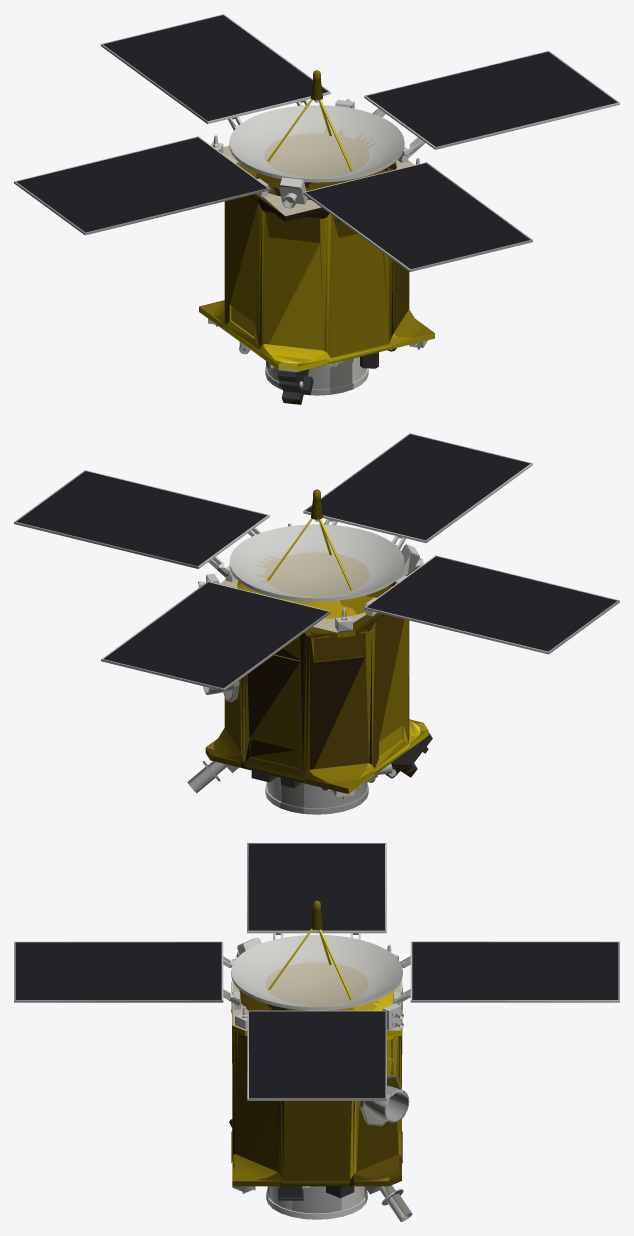
Rendered from near.glb.
3 views of the same model, one above another, from view 1: azimuth 30°, elevation 25°; view 2: azimuth 150°, elevation 25°; view 3: azimuth 270°, elevation 25° (orthographic).
Parts seen in each view (by area): view 1: solar-panel, foil, body; view 2: solar-panel, foil, body; view 3: solar-panel, body, foil.
Part boxes in pixels (bbox=[...]): solar-panel: bbox=[16, 15, 617, 269]; foil: bbox=[199, 70, 434, 404]; body: bbox=[14, 14, 619, 395]; solar-panel: bbox=[16, 434, 617, 688]; foil: bbox=[205, 489, 432, 793]; body: bbox=[14, 433, 619, 814]; solar-panel: bbox=[15, 843, 618, 1098]; body: bbox=[14, 843, 619, 1221]; foil: bbox=[229, 900, 402, 1200].
Size of the model in its own units: 5.29 by 2.86 by 5.29.
